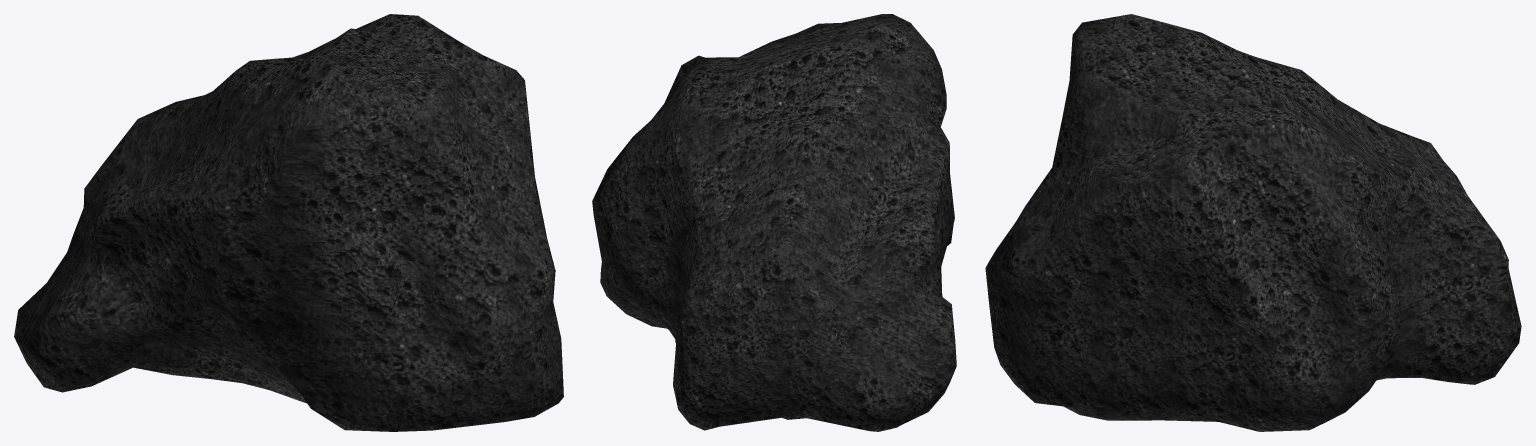
Rendered from ArtistVolcanicRock03.fbx.
The picture shows the model from 3 angles, left to right: view 1: azimuth 30°, elevation 25°; view 2: azimuth 150°, elevation 25°; view 3: azimuth 270°, elevation 25°; orthographic projection. The views are drawn at different scales.
Parts seen in each view (by area): view 1: ArtistVolcanicRock03_LOD0; view 2: ArtistVolcanicRock03_LOD0; view 3: ArtistVolcanicRock03_LOD0.
Boxes of the visible parts, x1,y1,x2,y2 form: ArtistVolcanicRock03_LOD0: [14, 14, 563, 431]; ArtistVolcanicRock03_LOD0: [592, 14, 956, 431]; ArtistVolcanicRock03_LOD0: [985, 14, 1521, 431].
Size of what is drawn, in the model's own units: 2.58 by 2.02 by 2.81.
Materials: 1 (1 with a texture image).
